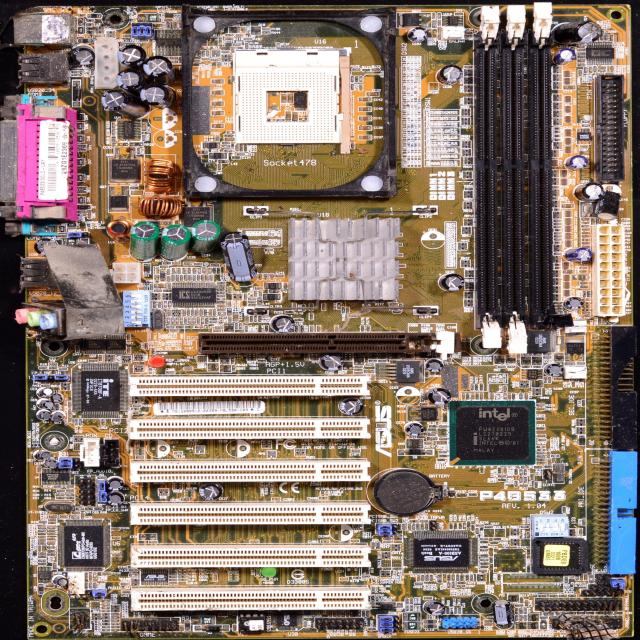Capacitor Jumper: (286, 218, 402, 302), (197, 483, 228, 500), (425, 387, 452, 405), (403, 422, 425, 436), (37, 399, 55, 410), (52, 411, 67, 424), (43, 459, 59, 470), (33, 451, 52, 460), (37, 411, 52, 421), (285, 111, 291, 122), (142, 122, 148, 132), (351, 448, 361, 453), (201, 266, 207, 274), (273, 274, 285, 278), (98, 354, 104, 362), (470, 392, 476, 400), (100, 418, 106, 426), (502, 466, 508, 474), (468, 492, 477, 497), (254, 286, 265, 290), (535, 407, 546, 411), (483, 620, 494, 624), (170, 317, 176, 324), (502, 393, 508, 400), (460, 394, 466, 401), (497, 466, 503, 473), (464, 574, 470, 581), (358, 84, 364, 91), (216, 281, 226, 285), (218, 316, 228, 320), (88, 359, 98, 363), (438, 424, 448, 428), (436, 440, 446, 444), (536, 448, 546, 452), (173, 451, 183, 455), (271, 497, 281, 501), (48, 514, 58, 518), (47, 518, 57, 522), (48, 521, 58, 525), (466, 520, 471, 528), (397, 523, 402, 531), (111, 527, 121, 531), (46, 532, 56, 536), (46, 537, 56, 541), (128, 565, 138, 569), (178, 568, 188, 572), (583, 573, 588, 581), (567, 594, 577, 598), (483, 622, 493, 626), (582, 238, 591, 242), (581, 241, 590, 245), (194, 262, 203, 266), (579, 270, 588, 274), (580, 284, 589, 288), (423, 441, 432, 445), (47, 525, 56, 529), (38, 555, 47, 559), (92, 572, 98, 578), (178, 578, 187, 582), (122, 590, 131, 594), (558, 594, 567, 598), (111, 612, 120, 616), (208, 309, 213, 316), (179, 317, 184, 324), (175, 317, 180, 324), (126, 334, 131, 341), (479, 384, 484, 391), (475, 393, 480, 400), (67, 401, 72, 408), (546, 451, 551, 458), (407, 523, 412, 530), (446, 574, 451, 581), (239, 144, 244, 151), (243, 145, 248, 152), (436, 458, 447, 461), (55, 497, 66, 500), (37, 526, 48, 529), (206, 274, 210, 282), (184, 274, 188, 282), (201, 274, 205, 282), (586, 290, 590, 298), (337, 302, 341, 310), (188, 317, 192, 325), (130, 411, 138, 415), (439, 454, 447, 458), (463, 522, 467, 530), (183, 262, 193, 265), (578, 266, 588, 269), (216, 285, 226, 288), (437, 27, 442, 33), (217, 312, 227, 315), (48, 363, 58, 366), (479, 393, 484, 399), (520, 466, 530, 469), (56, 493, 66, 496), (318, 497, 328, 500), (84, 507, 94, 510), (71, 512, 81, 515), (59, 515, 69, 518), (46, 542, 56, 545), (37, 552, 47, 555), (111, 554, 121, 557), (524, 600, 529, 606), (232, 156, 242, 159), (87, 212, 92, 218), (581, 235, 591, 238), (208, 267, 212, 274), (292, 303, 296, 310), (192, 317, 196, 324), (205, 318, 209, 325), (144, 342, 148, 349), (76, 346, 80, 353), (437, 33, 441, 40), (466, 393, 470, 400), (581, 399, 585, 406), (68, 409, 72, 416), (68, 416, 72, 423), (270, 481, 274, 488), (582, 519, 586, 526), (451, 574, 455, 581), (89, 574, 93, 581), (214, 326, 223, 329), (553, 377, 562, 380), (225, 37, 234, 40), (536, 417, 545, 420), (536, 427, 545, 430), (536, 445, 545, 448), (75, 507, 84, 510), (47, 529, 56, 532), (393, 537, 402, 540), (38, 539, 47, 542), (479, 570, 488, 573), (178, 572, 187, 575), (102, 572, 111, 575), (178, 575, 187, 578), (120, 583, 129, 586), (101, 603, 110, 606), (111, 616, 120, 619), (111, 619, 120, 622), (111, 622, 120, 625), (111, 628, 120, 631), (254, 290, 258, 296), (228, 317, 232, 323), (200, 318, 204, 324), (524, 393, 528, 399), (112, 419, 120, 422), (260, 482, 264, 488), (38, 535, 46, 538), (38, 542, 46, 545), (460, 574, 464, 580), (417, 575, 421, 581), (102, 606, 110, 609), (112, 122, 115, 130), (111, 130, 115, 136), (582, 228, 590, 231), (183, 309, 186, 316), (167, 309, 170, 316), (417, 523, 420, 530), (216, 298, 226, 300), (195, 326, 205, 328), (184, 326, 194, 328), (166, 372, 176, 374), (65, 496, 75, 498), (215, 135, 219, 140), (167, 318, 170, 324), (213, 330, 222, 332), (421, 524, 424, 530), (393, 541, 402, 543), (101, 610, 110, 612), (520, 608, 523, 614), (111, 626, 120, 628), (77, 214, 86, 216), (102, 600, 110, 602), (582, 232, 590, 234)
Connector: (464, 9, 505, 350), (527, 1, 567, 344), (503, 10, 528, 358), (131, 542, 370, 569), (128, 459, 372, 485), (130, 586, 374, 612), (128, 501, 373, 524), (129, 419, 371, 440), (130, 377, 371, 396), (592, 222, 630, 321)
IC: (448, 401, 536, 464), (70, 362, 130, 418), (402, 531, 478, 573), (57, 518, 112, 572), (116, 119, 141, 142), (406, 406, 442, 421), (40, 468, 70, 485), (83, 334, 104, 354), (105, 335, 127, 354)
Resistor Jumper: (455, 492, 467, 498), (130, 142, 144, 147), (520, 352, 534, 356), (302, 620, 309, 628), (140, 134, 147, 142), (264, 248, 275, 253), (110, 136, 116, 145), (131, 404, 144, 408), (351, 67, 361, 72), (432, 20, 438, 28), (238, 322, 244, 330), (518, 392, 524, 400), (89, 61, 95, 69), (538, 438, 547, 443), (427, 424, 438, 428), (456, 584, 467, 588), (101, 628, 112, 632), (70, 70, 81, 74), (216, 267, 222, 274), (366, 325, 372, 332), (244, 325, 250, 332), (502, 385, 508, 392), (244, 42, 250, 49), (442, 489, 448, 496), (562, 506, 568, 513), (92, 582, 98, 589), (436, 12, 442, 19), (178, 21, 183, 29), (192, 274, 197, 282), (175, 274, 180, 282), (262, 27, 272, 31), (216, 304, 226, 308), (203, 308, 208, 316), (253, 315, 258, 323), (249, 315, 254, 323), (257, 315, 262, 323), (234, 322, 239, 330), (542, 352, 552, 356), (365, 363, 375, 367), (354, 365, 364, 369), (38, 366, 48, 370), (73, 418, 78, 426), (497, 474, 507, 478), (497, 478, 507, 482), (221, 50, 231, 54), (453, 522, 458, 530), (492, 537, 502, 541), (479, 545, 489, 549), (479, 558, 489, 562), (479, 562, 489, 566), (352, 576, 362, 580), (210, 58, 220, 62), (266, 118, 276, 122), (181, 267, 187, 273), (176, 268, 182, 274), (178, 274, 184, 280), (217, 294, 226, 298), (217, 308, 226, 312), (582, 308, 591, 312), (263, 326, 269, 332), (534, 352, 543, 356), (378, 359, 387, 363), (148, 368, 154, 374), (232, 42, 241, 46), (438, 450, 447, 454), (522, 477, 528, 483), (479, 537, 488, 541), (47, 549, 56, 553), (38, 562, 47, 566), (169, 578, 178, 582), (102, 625, 111, 629), (166, 22, 171, 29), (212, 309, 217, 316), (199, 309, 204, 316), (196, 317, 201, 324), (78, 419, 83, 426), (424, 523, 429, 530), (37, 545, 42, 552), (429, 574, 434, 581), (519, 597, 524, 604), (90, 69, 95, 76), (40, 381, 51, 384), (40, 385, 51, 388), (536, 461, 547, 464), (199, 58, 210, 61), (71, 66, 82, 69), (370, 68, 381, 71), (197, 274, 201, 282), (190, 308, 194, 316), (360, 324, 364, 332), (543, 376, 547, 384), (548, 376, 552, 384), (519, 469, 523, 477), (519, 476, 523, 484), (534, 481, 538, 489), (38, 520, 46, 524), (476, 524, 484, 528), (449, 522, 453, 530), (393, 534, 401, 538), (470, 574, 474, 582), (421, 574, 425, 582), (405, 604, 409, 612), (162, 262, 172, 265), (191, 268, 196, 274), (171, 268, 176, 274), (166, 276, 171, 282), (216, 291, 226, 294), (542, 356, 552, 359), (52, 485, 62, 488), (65, 485, 75, 488), (65, 493, 75, 496), (94, 507, 104, 510), (408, 519, 418, 522), (205, 50, 210, 56), (46, 546, 56, 549), (480, 554, 490, 557), (37, 559, 47, 562), (168, 569, 178, 572), (455, 574, 460, 580), (409, 598, 414, 604), (404, 598, 409, 604), (457, 608, 462, 614), (136, 148, 141, 154), (236, 153, 246, 156), (130, 186, 140, 189), (212, 267, 216, 274), (188, 274, 192, 281), (171, 274, 175, 281), (187, 309, 191, 316), (195, 309, 199, 316), (184, 317, 188, 324), (300, 325, 304, 332), (475, 384, 479, 391), (514, 480, 518, 487), (264, 481, 268, 488), (412, 523, 416, 530), (471, 524, 475, 531), (497, 574, 501, 581), (564, 577, 568, 584), (452, 582, 456, 589), (410, 605, 414, 612), (216, 288, 225, 291), (376, 300, 385, 303), (217, 301, 226, 304), (582, 312, 591, 315), (209, 321, 218, 324), (225, 33, 234, 36), (235, 34, 244, 37), (507, 365, 516, 368), (536, 452, 545, 455), (536, 458, 545, 461), (519, 484, 528, 487), (57, 489, 66, 492), (382, 537, 391, 540), (479, 541, 488, 544), (479, 549, 488, 552), (47, 553, 56, 556), (129, 569, 138, 572), (169, 572, 178, 575), (361, 575, 370, 578), (77, 210, 86, 213), (581, 225, 590, 228), (173, 22, 177, 28), (198, 268, 202, 274), (582, 291, 586, 297), (582, 302, 590, 305), (582, 305, 590, 308), (176, 326, 184, 329), (470, 384, 474, 390), (524, 469, 528, 475), (66, 489, 74, 492), (521, 525, 529, 528), (201, 50, 205, 56), (426, 575, 430, 581), (414, 582, 422, 585), (447, 582, 451, 588), (362, 68, 370, 71), (437, 20, 441, 26), (165, 326, 176, 328), (70, 74, 81, 76), (210, 274, 213, 281), (403, 523, 406, 530), (85, 582, 88, 589), (454, 608, 457, 615), (166, 269, 170, 274), (261, 32, 271, 34), (243, 38, 253, 40), (438, 438, 448, 440), (536, 456, 546, 458), (37, 533, 47, 535), (168, 576, 178, 578), (188, 268, 191, 274), (209, 318, 218, 320), (497, 366, 506, 368), (551, 455, 560, 457), (419, 520, 428, 522), (484, 526, 493, 528), (37, 530, 46, 532), (85, 572, 88, 578), (457, 582, 466, 584), (89, 582, 92, 588), (432, 13, 435, 19), (369, 360, 377, 362), (536, 404, 544, 406), (383, 541, 391, 543), (276, 119, 284, 121), (581, 222, 589, 224)
Transistor: (106, 152, 142, 182), (108, 186, 130, 213), (396, 12, 431, 28), (519, 356, 532, 366), (504, 354, 516, 364), (426, 29, 437, 38), (494, 355, 505, 364), (532, 357, 541, 365)
